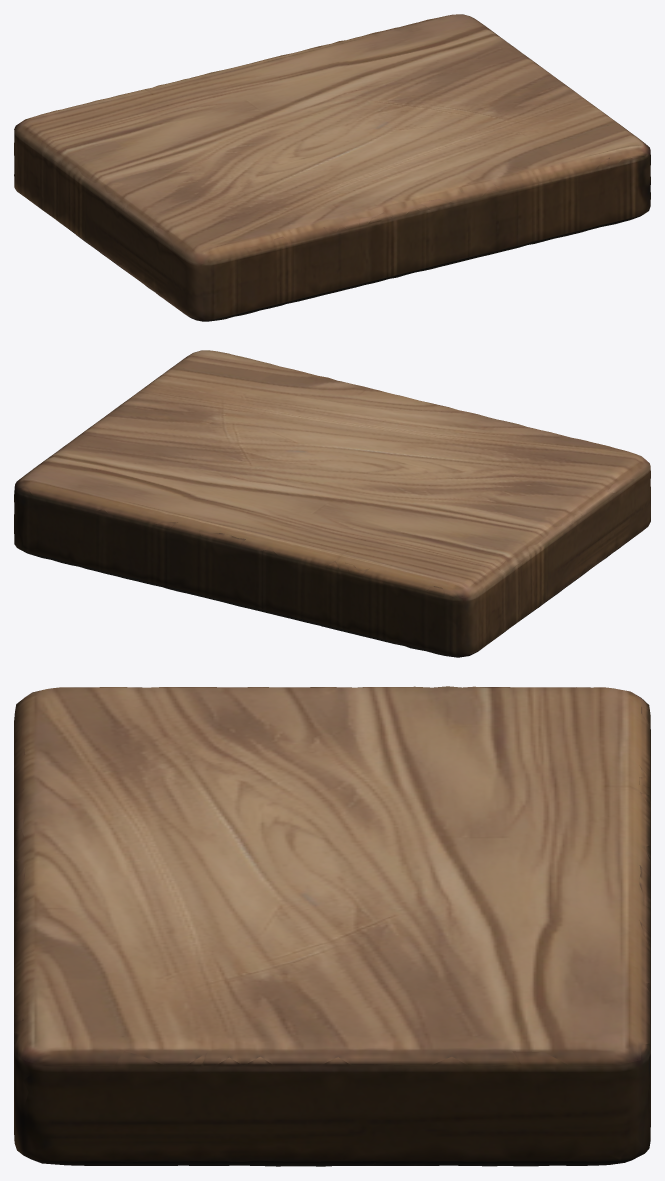
The model's file is cutting_board.glb.
The picture shows the model from 3 angles, top to bottom: view 1: azimuth 30°, elevation 25°; view 2: azimuth 150°, elevation 25°; view 3: azimuth 270°, elevation 25°; orthographic projection. The views are drawn at different scales.
Parts seen in each view (by area): view 1: CuttingBoard; view 2: CuttingBoard; view 3: CuttingBoard.
Boxes of the visible parts, box(x1,y1,x2,y2) form: CuttingBoard: box(14, 14, 650, 321); CuttingBoard: box(14, 350, 650, 657); CuttingBoard: box(14, 686, 650, 1166).
Bounding box in the file's own units: 0.4 × 0.0608 × 0.2881.
1 material, 1 textured.
